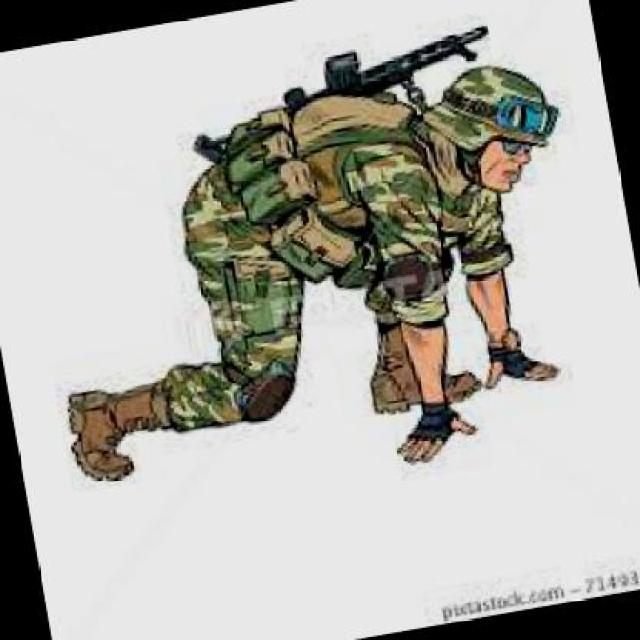MIL_Pax: (4, 38, 610, 537)
